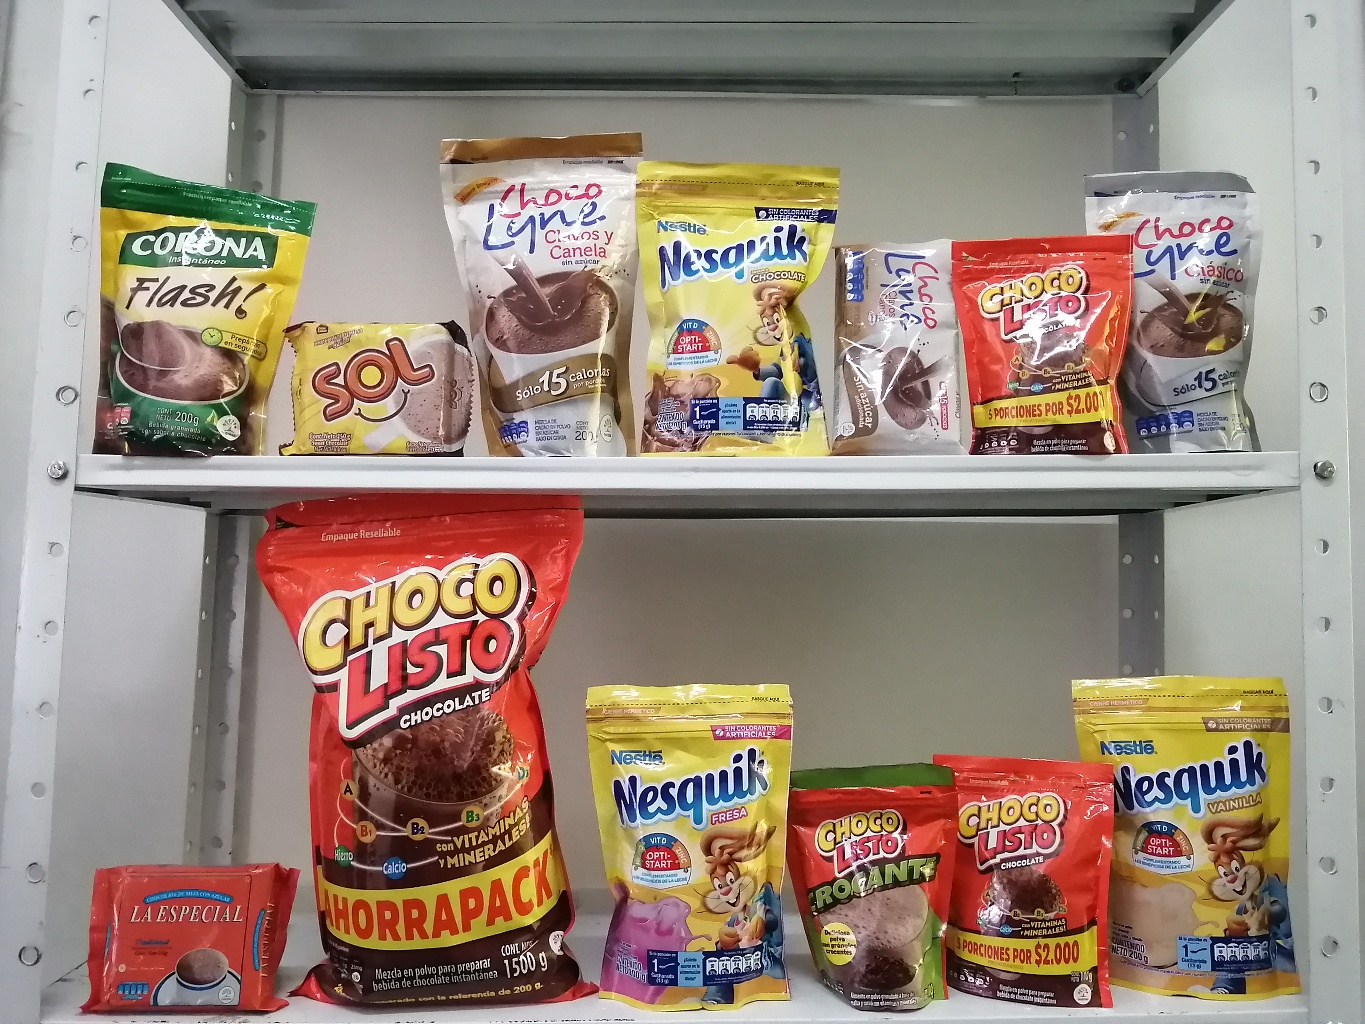COL0170102DYP10000: (768, 734, 984, 1016)
COL0170103DYP1,500: (230, 490, 611, 1011)
COL0170303DYP20000: (622, 143, 839, 470)
COL0170305DYP20000: (574, 671, 820, 1008)
COL0170306DYP20000: (1046, 657, 1324, 1009)
